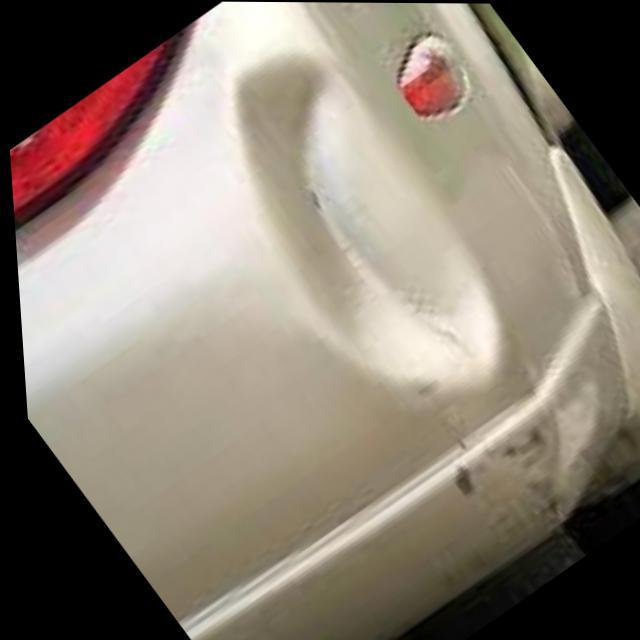dent: (236, 31, 611, 516)
